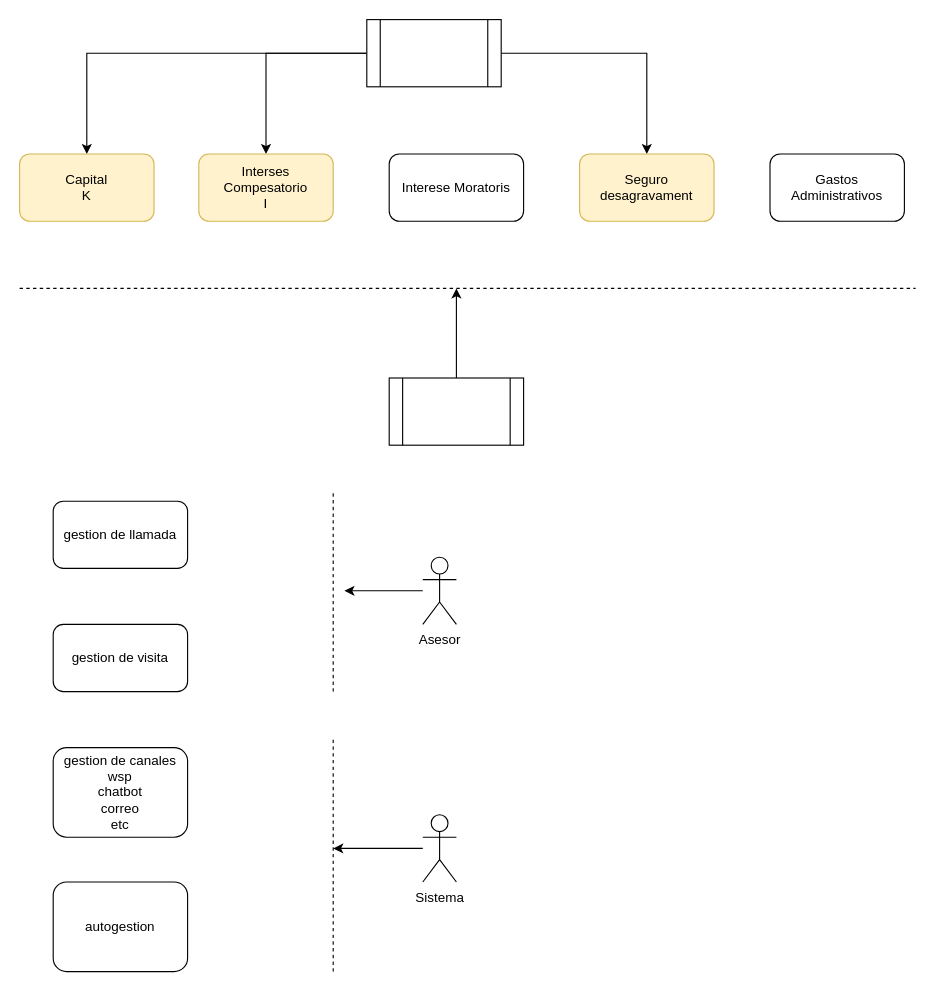
The diagram is 936 pixels wide and 992 high, and some of its shapes have lost their labels. The shapes that lost their labels are listed below. From the top down, each one's centre as x and y in pixels, then its label:
At (433,52): "Prestamos de servicios Bancario".
At (456,411): "Cobranza".
